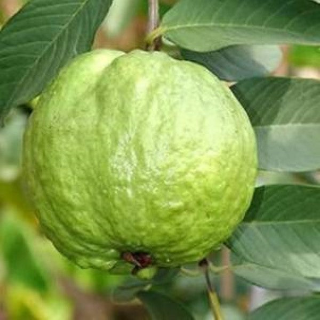oi: (18, 43, 260, 274)
